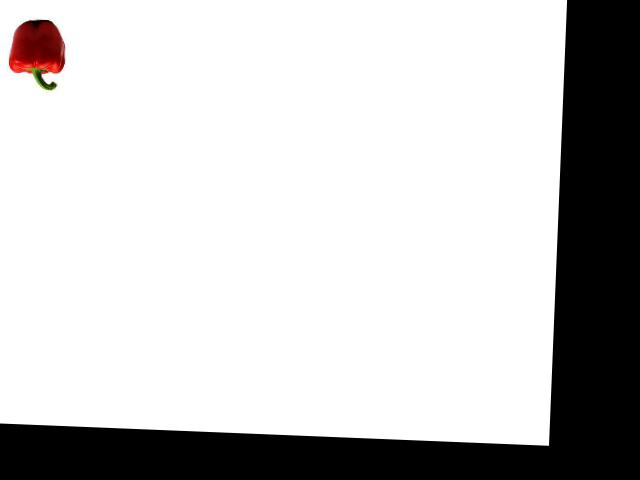bell_pepper: (4, 15, 70, 92)
